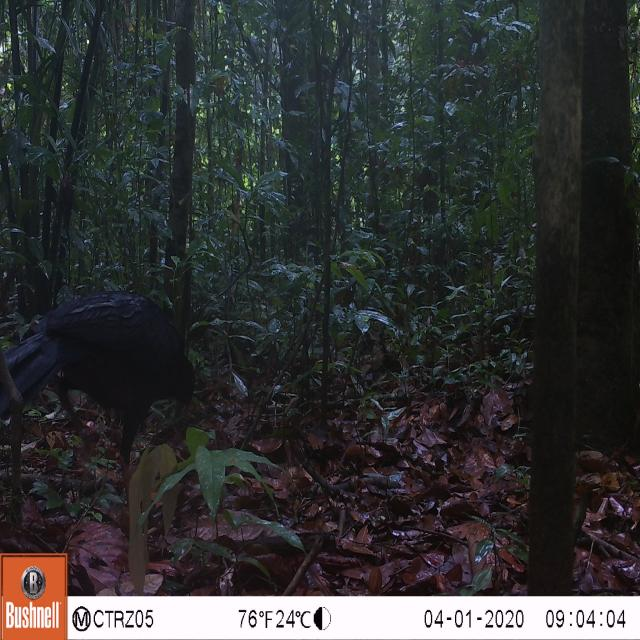Salvins Curassow: (0, 268, 212, 550)
